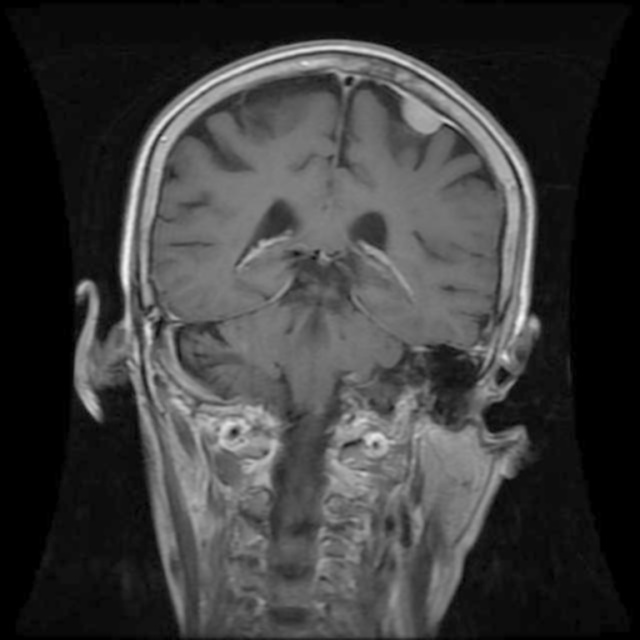meningioma tumor: (385, 78, 463, 158)
